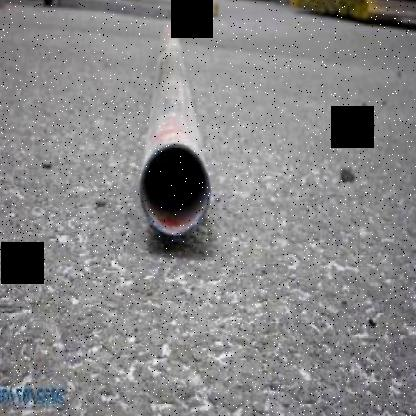pipe: (140, 141, 210, 237)
